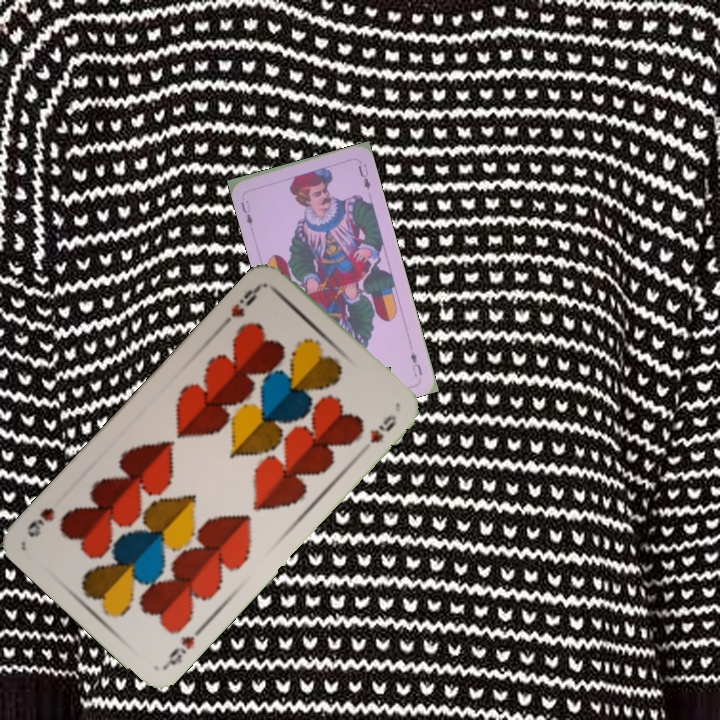EU: (406, 348, 425, 380), (237, 196, 255, 228)
H9: (219, 280, 265, 328), (160, 631, 198, 671)
